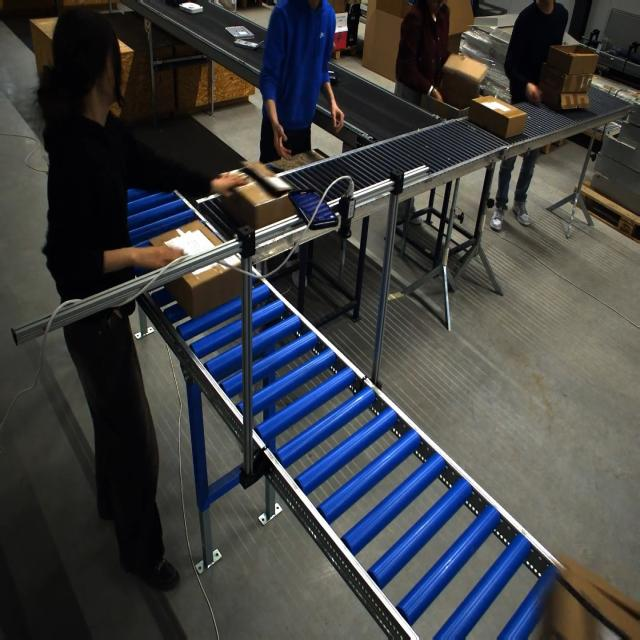box: (147, 223, 239, 319), (221, 174, 298, 232), (437, 52, 489, 110), (467, 95, 527, 140)
product: (224, 26, 255, 40), (232, 39, 262, 51), (178, 1, 204, 14), (328, 69, 339, 85)
